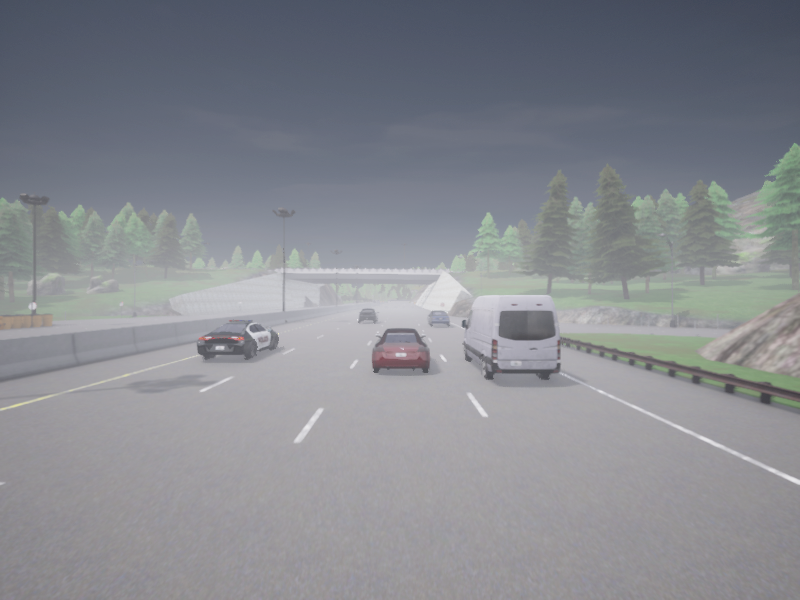vehicle: (461, 295, 560, 378), (196, 320, 277, 359), (372, 328, 429, 371), (427, 311, 449, 325), (358, 308, 378, 322)
